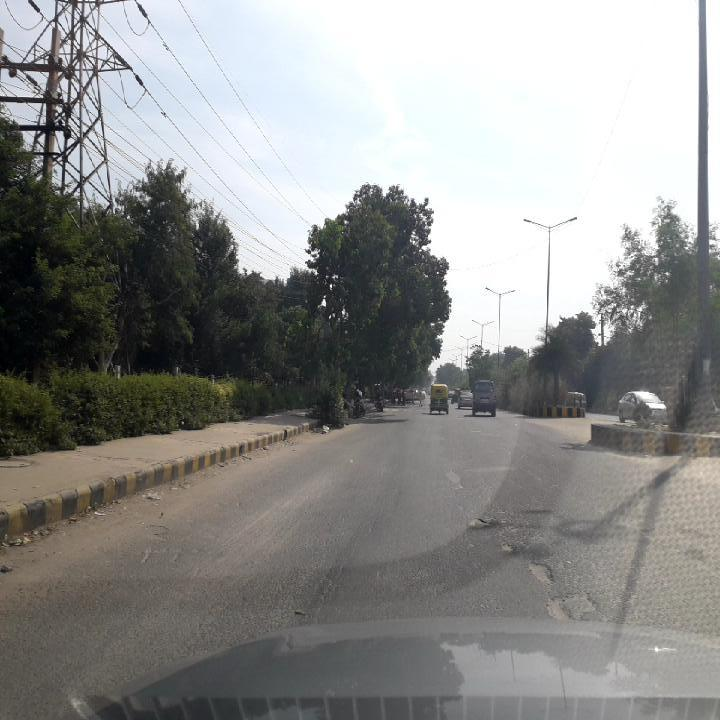pothole: (545, 593, 579, 621), (525, 559, 554, 586), (466, 516, 490, 528), (498, 542, 515, 552)
